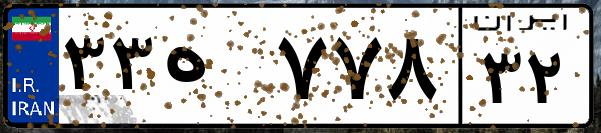2: (525, 38, 570, 115)
3: (57, 26, 110, 100), (475, 38, 525, 113), (110, 28, 158, 98)
7: (270, 28, 330, 110), (330, 28, 385, 110)
8: (385, 28, 445, 110)
ه: (158, 20, 270, 120)
